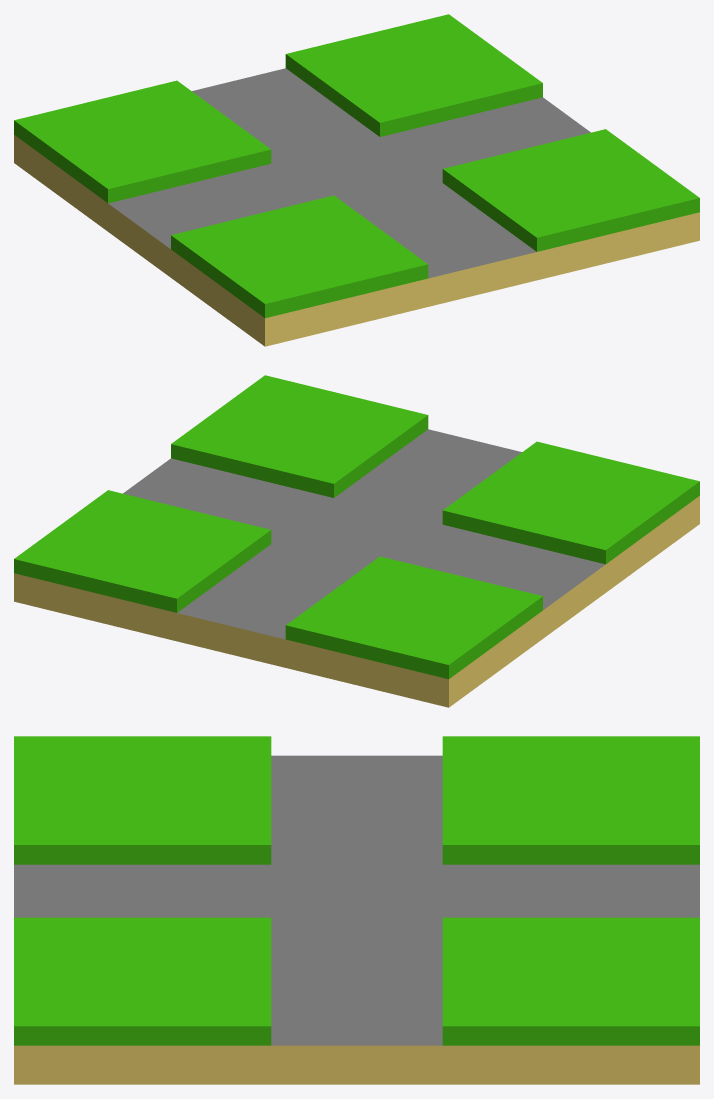
The model's file is split_2.gltf.
The picture shows the model from 3 angles, top to bottom: view 1: azimuth 30°, elevation 25°; view 2: azimuth 150°, elevation 25°; view 3: azimuth 270°, elevation 25°; orthographic projection. The views are drawn at different scales.
Parts seen in each view (by area): view 1: cube (×5); view 2: cube (×5); view 3: cube (×5).
Part boxes in pixels (bbox=[...]): cube (×5): bbox=[14, 14, 699, 346]; cube (×5): bbox=[14, 375, 699, 707]; cube (×5): bbox=[14, 736, 699, 1084].
Size of the model in its own units: 1 by 0.0938 by 1.
2 materials, 2 textured.
